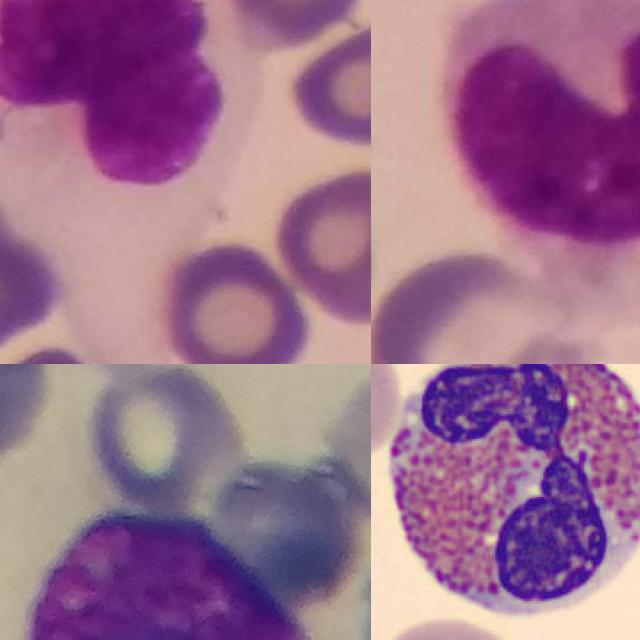Basophil: (24, 509, 319, 640)
Eosinophil: (372, 364, 640, 634)
Monocyte: (0, 0, 263, 254), (437, 0, 640, 245)
